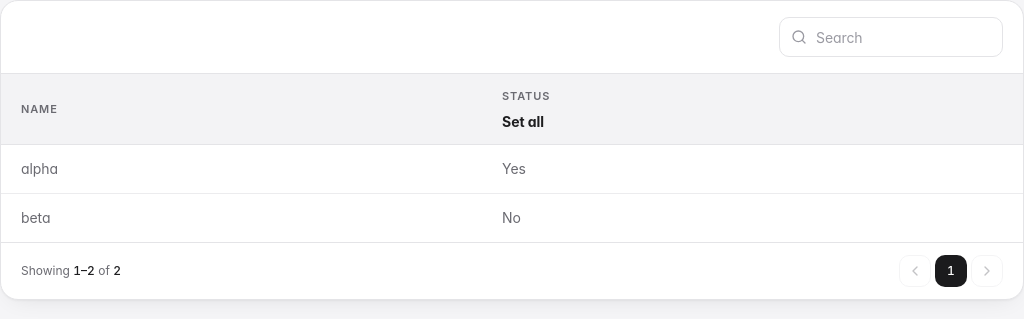
DataTable › filters rows with search and shows the empty state
This screenshot has width=1024, height=319.
Type "beta" into the field with placeholder "Search" at (891, 37), box [779,17,1003,57]
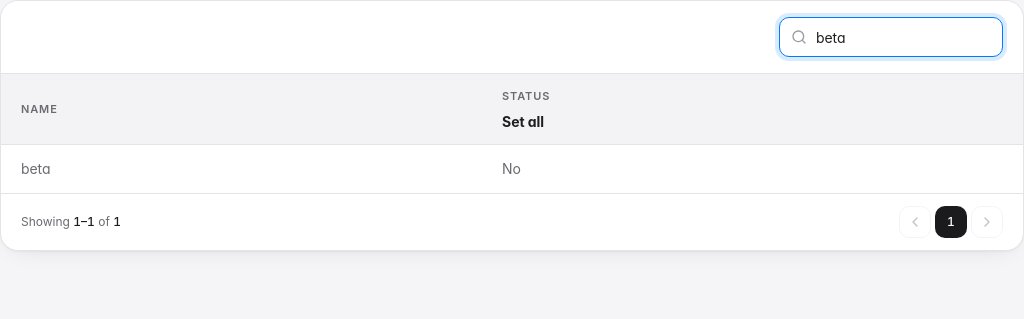
expect the text "beta" is shown: met, box [21,160,50,177]
expect the text "alpha" is gone: met
Replace the text in the field with placeholder "Search" with "missing" at (891, 37), box [779,17,1003,57]
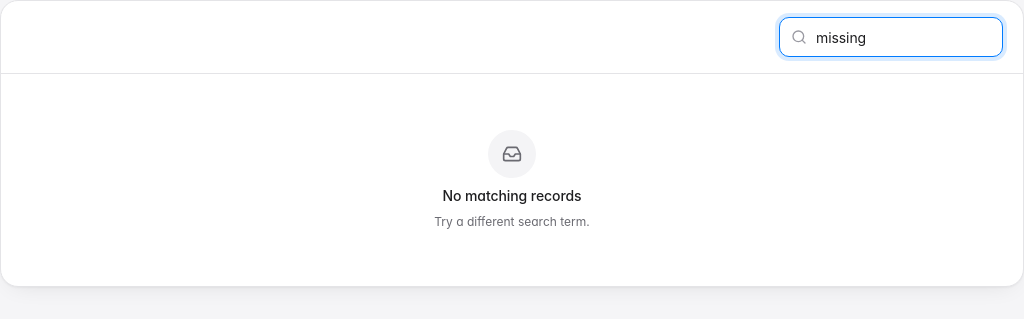
expect the text "No matching records" is shown: met, box [442,186,582,206]
